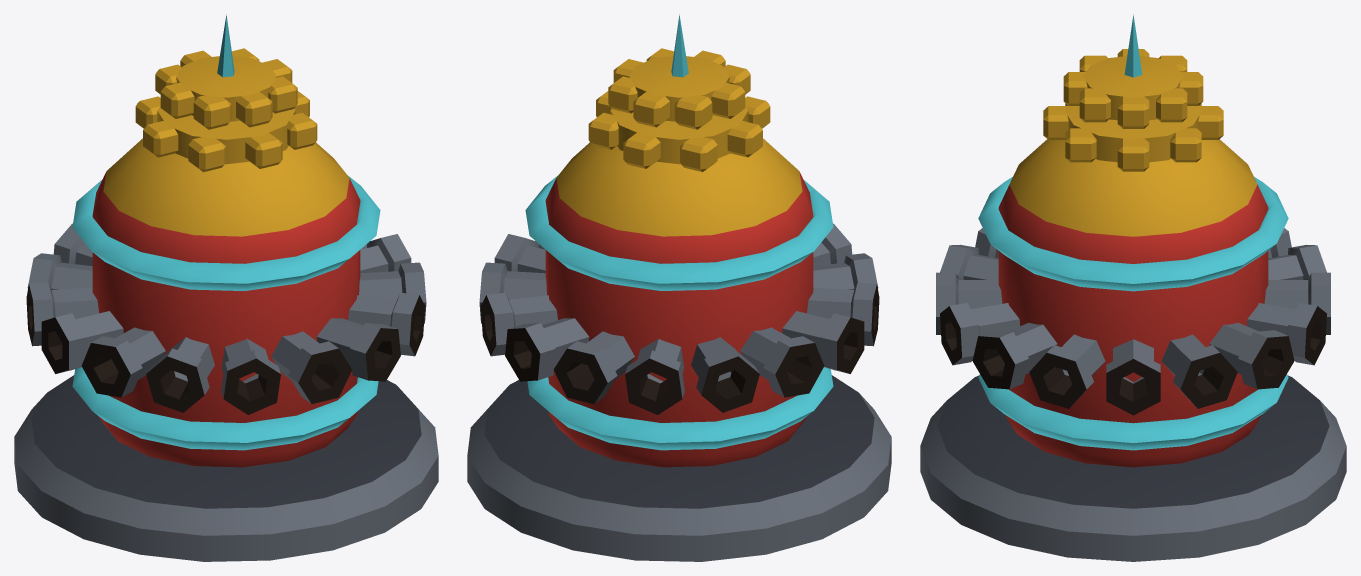
3 renders of one model, left to right at view 1: azimuth 30°, elevation 25°; view 2: azimuth 150°, elevation 25°; view 3: azimuth 270°, elevation 25°, orthographic.
Parts seen in each view (by area): view 1: tachinha_1_torreta, tachinha_0_base; view 2: tachinha_1_torreta, tachinha_0_base; view 3: tachinha_1_torreta, tachinha_0_base.
Part boxes in pixels (bbox=[...]): tachinha_1_torreta: bbox=[26, 14, 426, 467]; tachinha_0_base: bbox=[14, 375, 438, 561]; tachinha_1_torreta: bbox=[479, 14, 879, 467]; tachinha_0_base: bbox=[467, 375, 891, 561]; tachinha_1_torreta: bbox=[936, 14, 1330, 467]; tachinha_0_base: bbox=[920, 375, 1346, 561].
Size of the model in its own units: 0.68 by 0.81 by 0.68.
